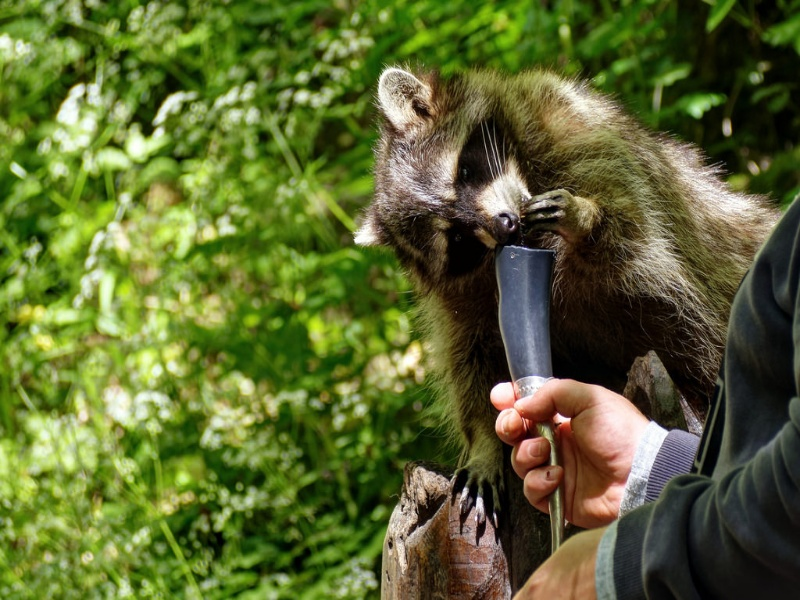raccoon: (333, 69, 794, 553)
